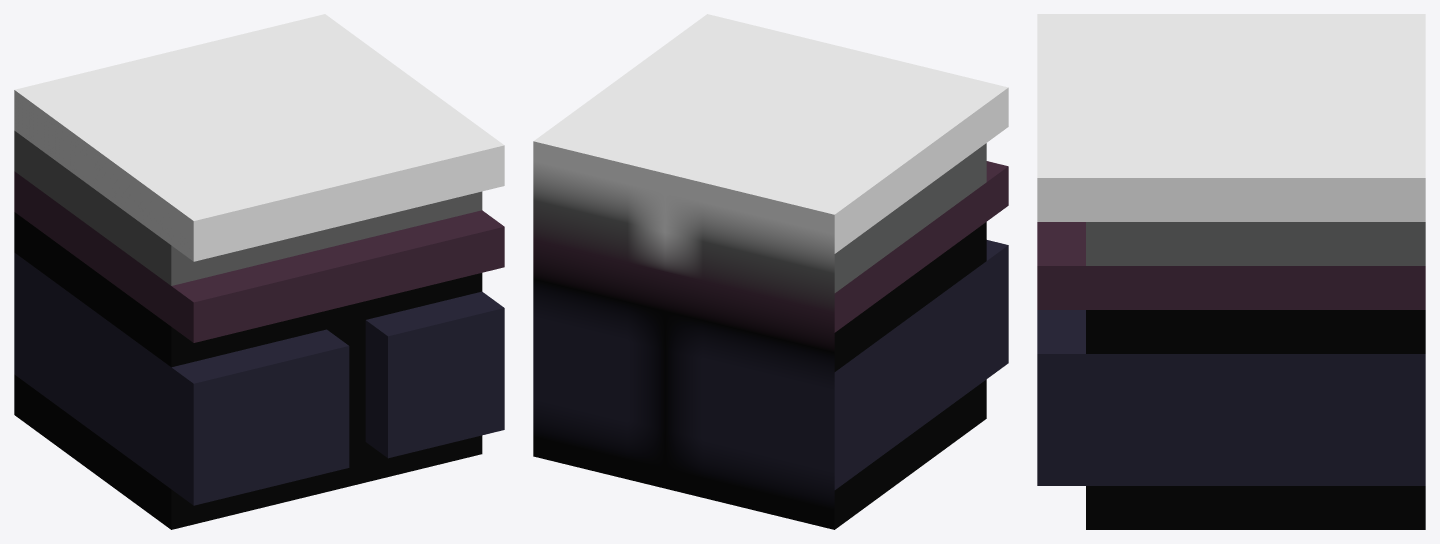
Rendered from floor_2.fbx.
3 views of the same model, side by side, from view 1: azimuth 30°, elevation 25°; view 2: azimuth 150°, elevation 25°; view 3: azimuth 270°, elevation 25° (orthographic). The views are drawn at different scales.
Visible parts, largest first — view 1: floor_2; view 2: floor_2; view 3: floor_2.
Part boxes in pixels (left/top/right/bottom): floor_2: left=14, top=14, right=504, bottom=529; floor_2: left=533, top=14, right=1008, bottom=529; floor_2: left=1037, top=14, right=1425, bottom=529.
Bounding box in the file's own units: 8 × 8 × 8.
